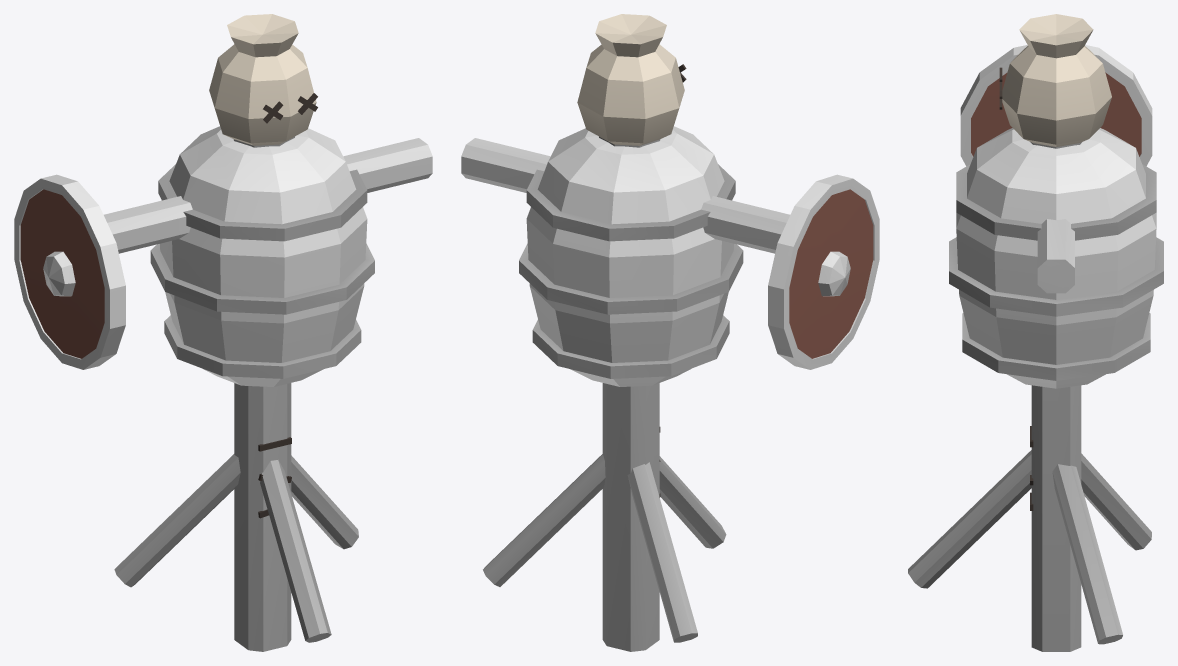
File: training_dummy.glb
The picture shows the model from 3 angles, left to right: view 1: azimuth 30°, elevation 25°; view 2: azimuth 150°, elevation 25°; view 3: azimuth 270°, elevation 25°; orthographic projection.
Visible parts, largest first — view 1: dummy_arm; view 2: dummy_arm; view 3: dummy_arm.
Part boxes in pixels (x1,y1,x2,y2): dummy_arm: (14,14,432,651); dummy_arm: (461,14,879,651); dummy_arm: (908,14,1163,651).
Bounding box in the file's own units: 1.4 × 2.18 × 0.8261.
